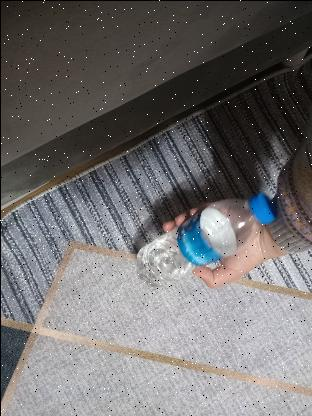Plastic Bottle: (116, 189, 272, 291)
